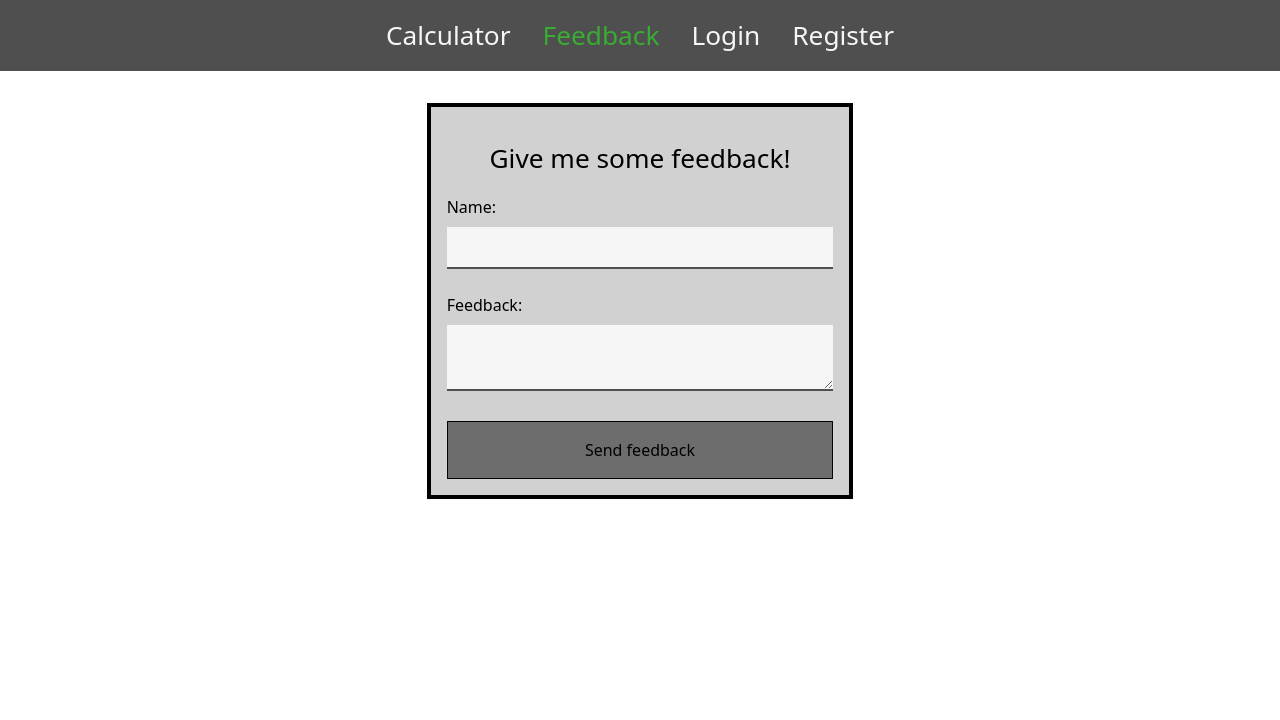
Test: Test submitting feedbacks through the feedback view › Should show error message when feedback is less than 20 characters
This screenshot has width=1280, height=720.
Step 1. Type "1234567890123456789" into the text box labelled "Feedback:" → coordinates (641, 358), box [447, 325, 834, 391]
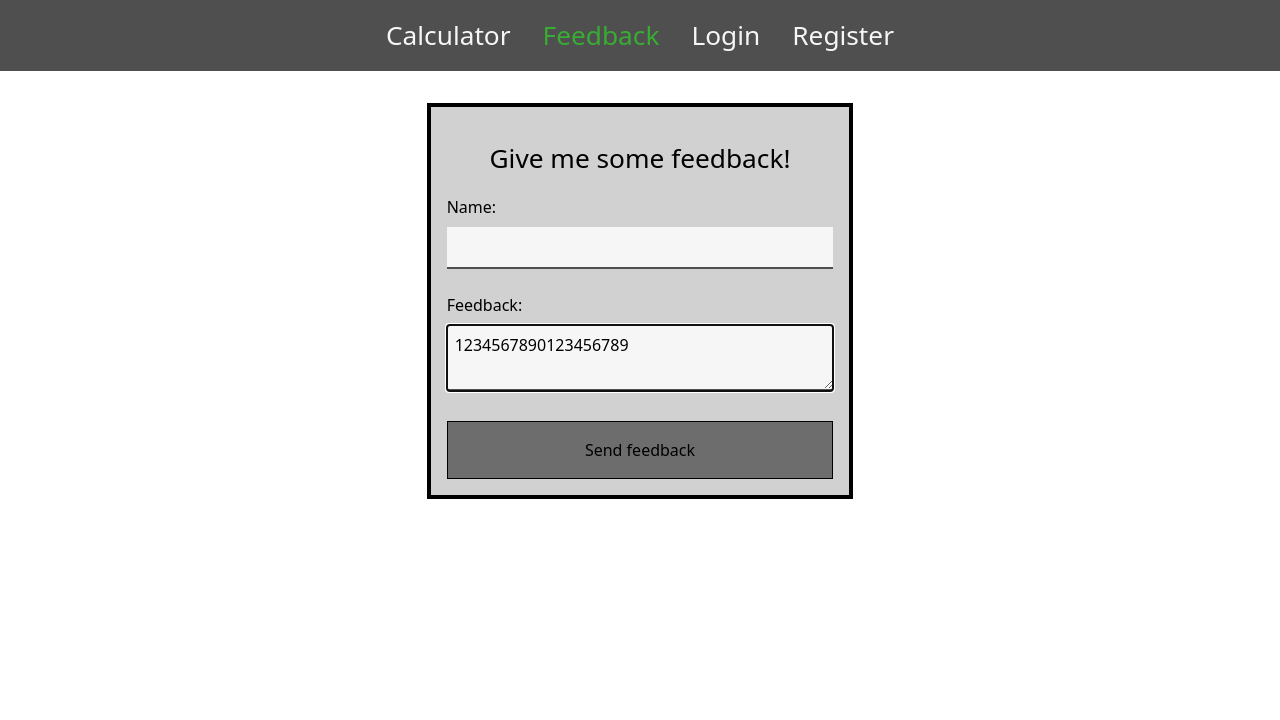
Step 2. Leave the text box labelled "Feedback:", box [447, 325, 834, 391]
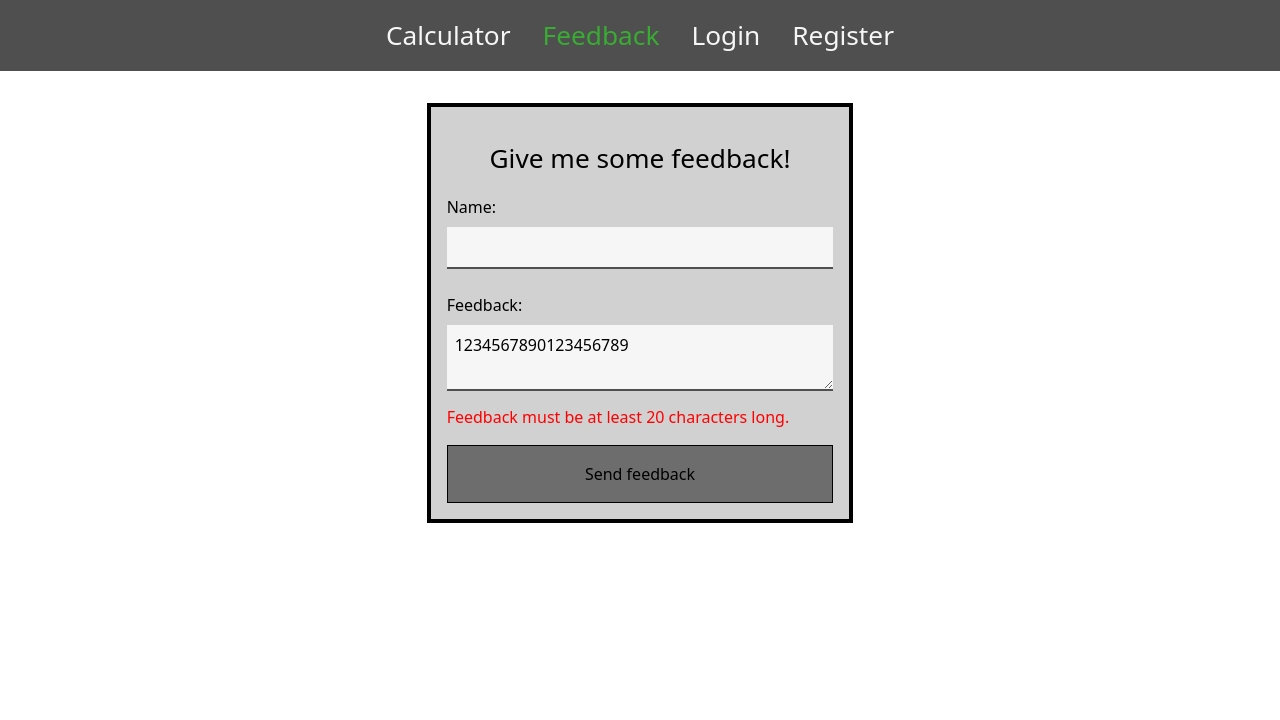
Expected: the text "Feedback must be at least 20 characters long." is shown, [447, 405, 833, 429]
